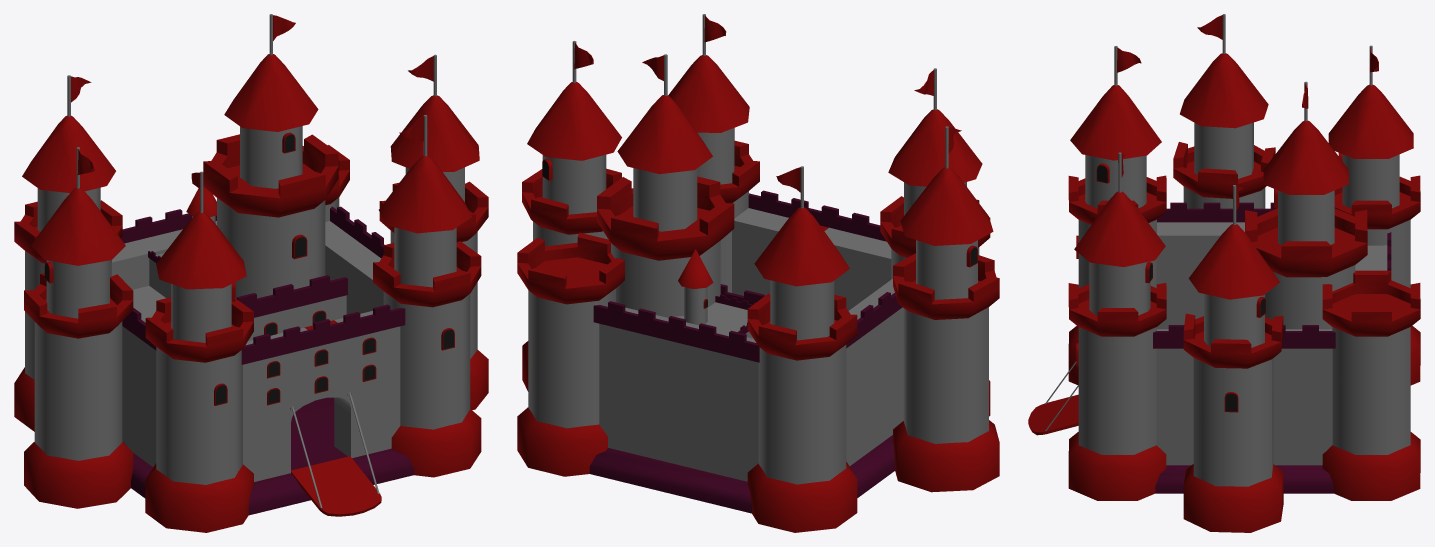
File: Evil_Castle_UpgradeDouble_Stage1.fbx
3 renders of one model, left to right at view 1: azimuth 30°, elevation 25°; view 2: azimuth 150°, elevation 25°; view 3: azimuth 270°, elevation 25°, orthographic. The views are drawn at different scales.
Parts seen in each view (by area): view 1: Evil_Castle_UpgradeDouble_Stage_1; view 2: Evil_Castle_UpgradeDouble_Stage_1; view 3: Evil_Castle_UpgradeDouble_Stage_1.
Boxes of the visible parts, bbox=[...] form: Evil_Castle_UpgradeDouble_Stage_1: bbox=[14, 14, 488, 532]; Evil_Castle_UpgradeDouble_Stage_1: bbox=[517, 14, 999, 532]; Evil_Castle_UpgradeDouble_Stage_1: bbox=[1028, 14, 1420, 532].
Bounding box in the file's own units: 1190 × 966 × 927.
1 material, 1 textured.
